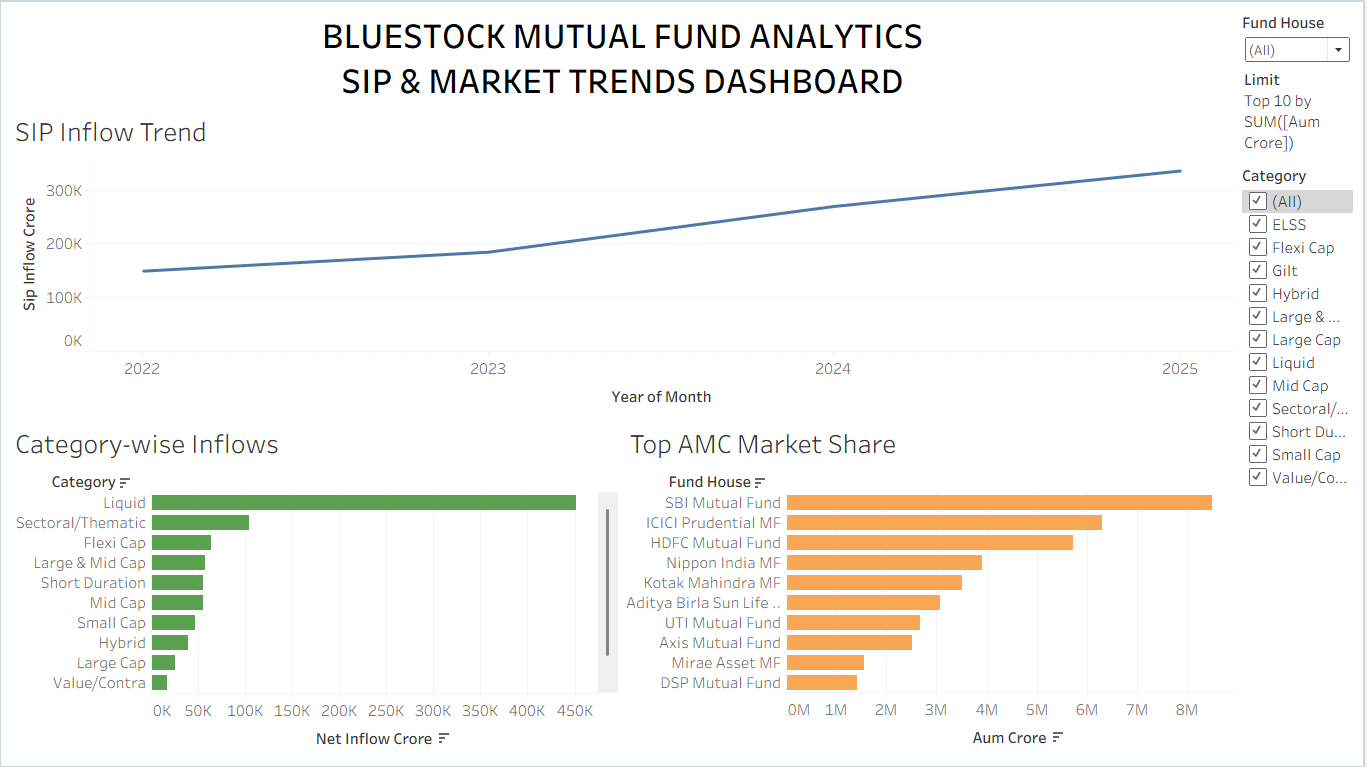

The dashboard page shown, as its layout file describes it:
{"tool":"tableau","page":{"name":"SIP & Market Trends Dashboard","canvas":[1366,768],"ordinal":3},"visuals":[{"type":"text","box":[8,8,1231,98]},{"type":"filter","title":"AMC_Market_Share","param":"[federated.1smn4av0jp8y3a1ek2pr909llxmh].[none:fund_house:nk]","box":[1239,8,119,153]},{"type":"worksheet","title":"SIP_Growth_Trend","mark":"Line","rows":["sip_inflow_crore"],"cols":["month"],"box":[8,106,1231,312]},{"type":"filter","title":"Category_Inflows","param":"[federated.0o8j78o1y8znsx1e35kxw0v0ml9q].[none:category:nk]","box":[1239,161,119,335]},{"type":"worksheet","title":"Category_Inflows","mark":"Automatic","rows":["category"],"cols":["net_inflow_crore"],"box":[8,418,615.5,342]},{"type":"worksheet","title":"AMC_Market_Share","mark":"Automatic","rows":["fund_house"],"cols":["aum_crore"],"box":[623.5,418,615.5,342]}]}

Visuals, with their boxes in screenshot pixels (x1, y1, x2, y2), scaled from the page's 1366x768 canvas onto the 1367x767 screenshot:
text: bbox=[8, 8, 1240, 106]
"AMC_Market_Share" filter: bbox=[1240, 8, 1359, 161]
"SIP_Growth_Trend" worksheet (Line marks): bbox=[8, 106, 1240, 417]
"Category_Inflows" filter: bbox=[1240, 161, 1359, 495]
"Category_Inflows" worksheet: bbox=[8, 417, 624, 759]
"AMC_Market_Share" worksheet: bbox=[624, 417, 1240, 759]
